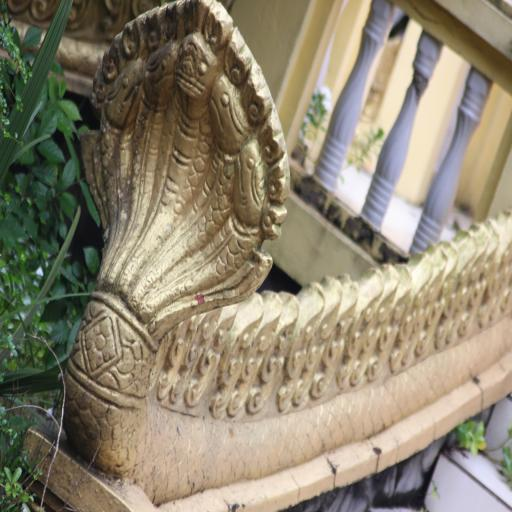lua: (283, 292, 355, 400), (250, 297, 316, 414), (340, 278, 400, 388), (214, 310, 272, 414), (363, 274, 417, 379), (169, 312, 221, 410), (396, 252, 440, 364), (455, 234, 503, 336), (430, 250, 471, 344), (151, 308, 188, 409), (484, 226, 512, 329)
ran: (62, 0, 290, 334)
